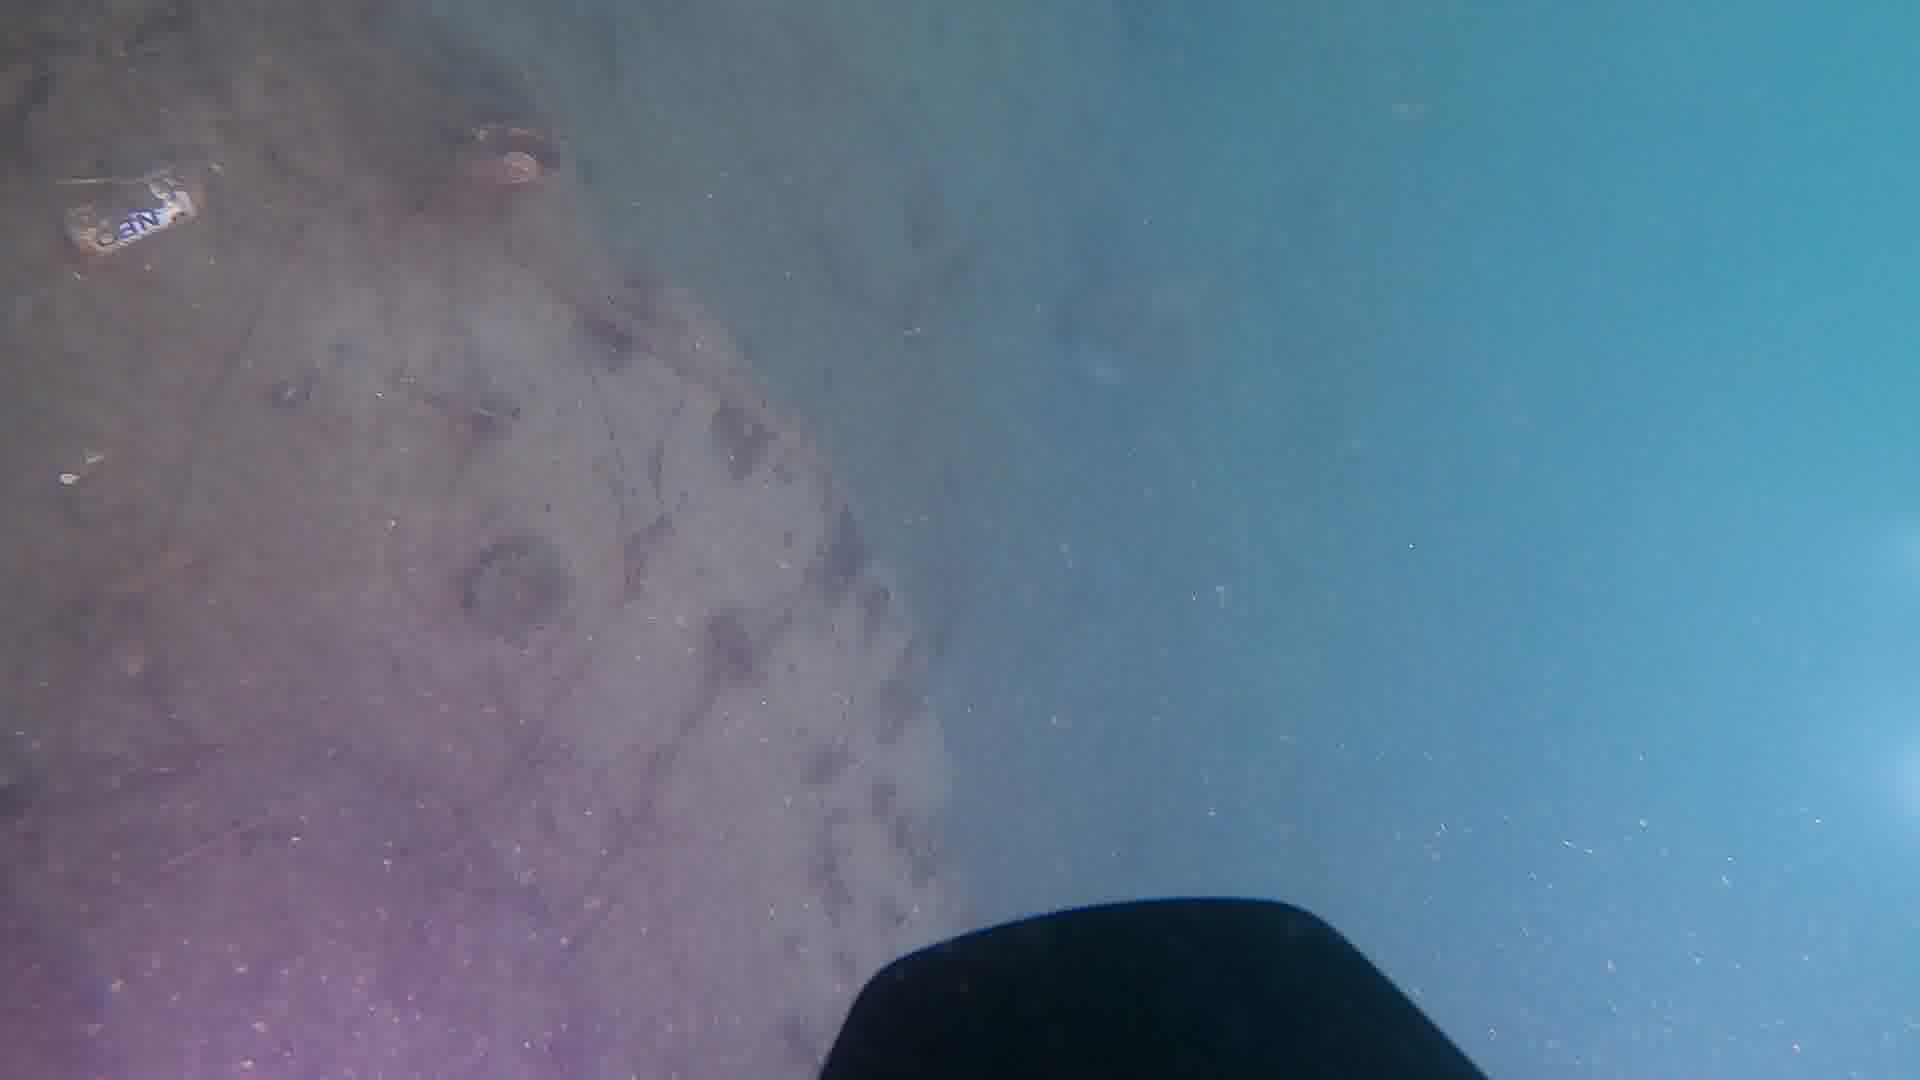other objects: (20, 30, 985, 945)
